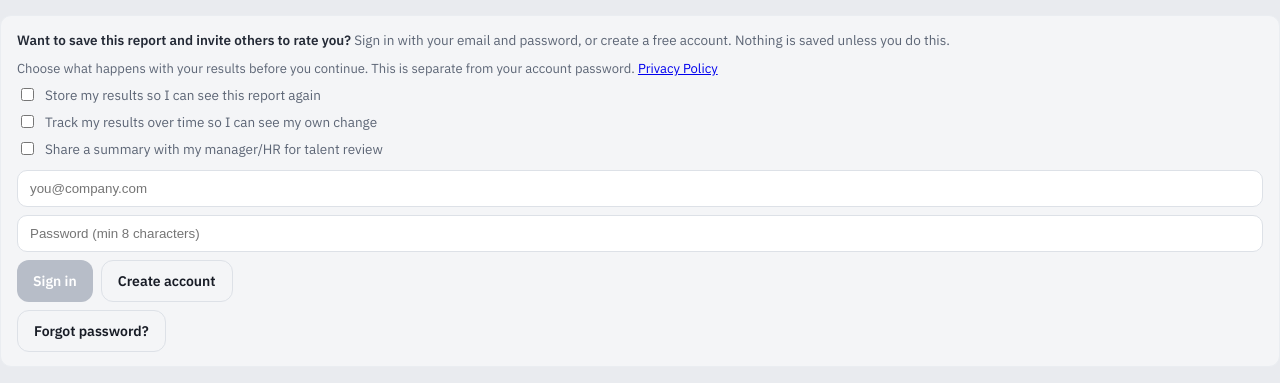
Test: AuthPanel › disables sign-in and create-account until the store-results checkbox is checked
In the field with placeholder "you@company.com": {"x": 640, "y": 188} [17, 170, 1263, 207], type "a@b.com"
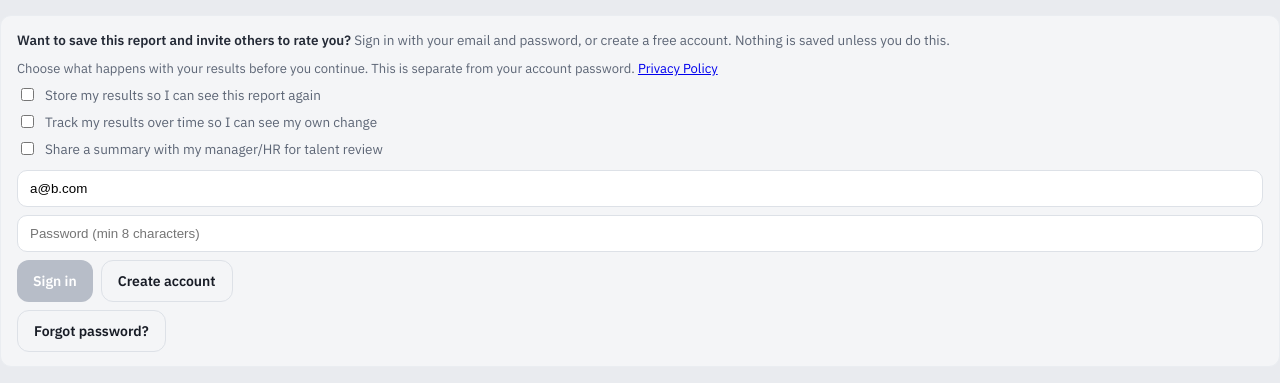
In the password field with placeholder "Password (min 8 characters)": {"x": 640, "y": 233} [17, 215, 1263, 252], type "secret123"
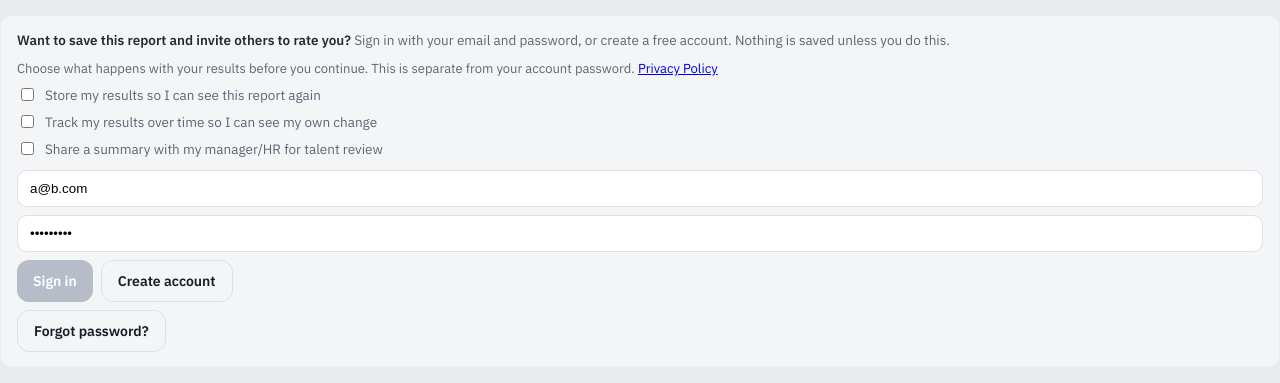
Expected: the button "Sign in" is disabled, [17, 260, 93, 302]
Expected: the button "Create account" is disabled, [101, 260, 233, 302]
Click the checkbox labelled "Store my results so I can see this report again": {"x": 28, "y": 95} [21, 88, 34, 101]
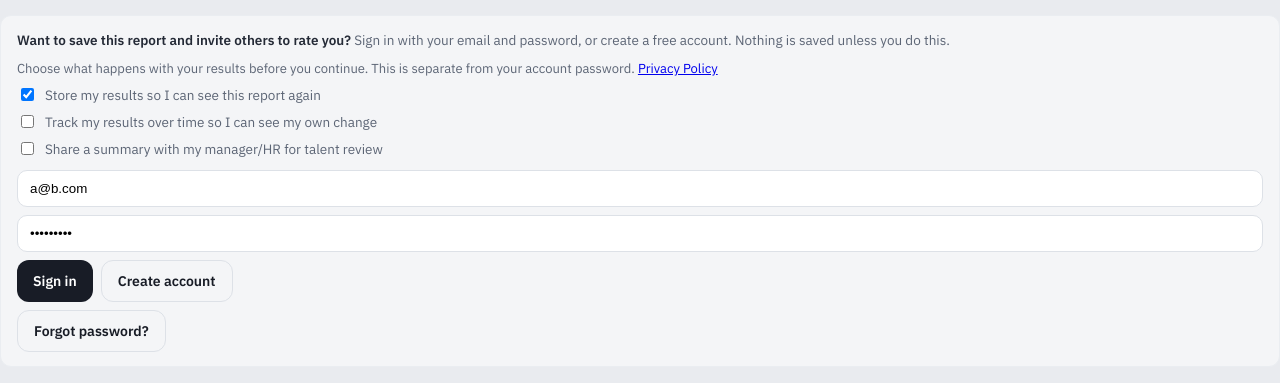
Expected: the button "Create account" is enabled, [101, 260, 233, 302]
Expected: the button "Sign in" is enabled, [17, 260, 93, 302]
